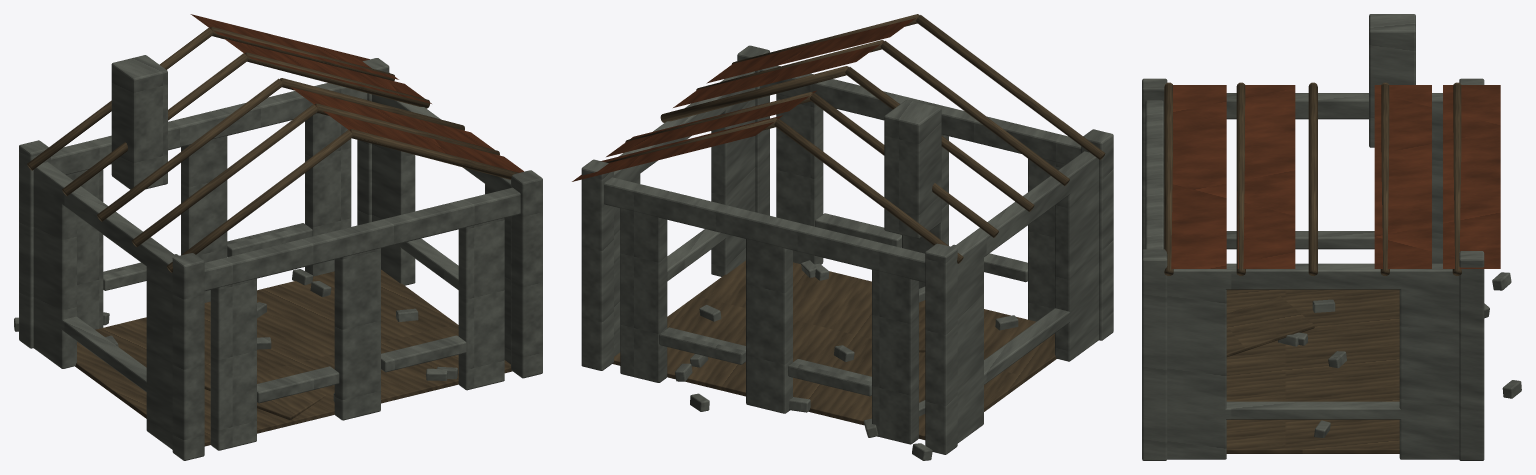
File: house_ruin.glb
The picture shows the model from 3 angles, left to right: view 1: azimuth 30°, elevation 25°; view 2: azimuth 150°, elevation 25°; view 3: azimuth 270°, elevation 25°; orthographic projection. The views are drawn at different scales.
Visible parts, largest first — view 1: Interior_floor, Facade_lintel, Facade_pier, Facade_pier.001, Facade_pier.002, Side_wall.001, Chimney, Corner_masonry, Corner_masonry.002, Facade_lintel.001, Facade_pier.005, Side_wall (+29 smaller); view 2: Interior_floor, Facade_lintel.001, Facade_pier.005, Facade_pier.003, Facade_pier.004, Side_wall, Chimney, Corner_masonry.001, Corner_masonry.003, Facade_lintel, Facade_pier.002, Side_wall.001 (+28 smaller); view 3: Interior_floor, Side_wall.003, Side_wall.002, Broken_roof_sheet, Broken_roof_sheet.001, Broken_roof_sheet.002, Broken_roof_sheet.003, Side_lintel.001, Corner_masonry.002, Corner_masonry.003, Chimney, Side_sill.001 (+11 smaller).
Part boxes in pixels (x1,y1,x2,y2): Interior_floor: (75,269,512,446); Facade_lintel: (204,187,520,290); Facade_pier: (210,278,256,450); Facade_pier.001: (334,248,380,420); Facade_pier.002: (458,218,504,390); Side_wall.001: (33,177,76,368); Chimney: (111,55,167,189); Corner_masonry: (172,253,204,460); Corner_masonry.002: (511,170,542,378); Facade_lintel.001: (51,83,367,174); Facade_pier.005: (305,113,351,276); Side_wall: (146,260,172,449); Interior_floor: (612,260,1056,439); Facade_lintel.001: (604,177,925,282); Facade_pier.005: (620,208,667,382); Facade_pier.003: (872,269,918,444); Facade_pier.004: (746,239,792,413); Side_wall: (1055,166,1098,361); Chimney: (884,99,941,238); Corner_masonry.001: (925,243,957,454); Corner_masonry.003: (581,159,613,370); Facade_lintel: (760,65,1081,164); Facade_pier.002: (776,94,823,264); Side_wall.001: (957,253,983,443); Interior_floor: (1226,289,1399,453); Side_wall.003: (1399,283,1459,459); Side_wall.002: (1167,283,1226,459); Broken_roof_sheet: (1171,85,1226,268); Broken_roof_sheet.001: (1237,85,1295,268); Broken_roof_sheet.002: (1374,85,1431,268); Broken_roof_sheet.003: (1443,85,1500,268); Side_lintel.001: (1167,263,1459,289); Corner_masonry.002: (1142,249,1167,460); Corner_masonry.003: (1459,251,1484,460); Chimney: (1369,14,1415,147); Side_sill.001: (1224,401,1401,419).
Bounding box in the file's own units: 6.05 × 4.57 × 5.27.
Materials: 3 (3 with a texture image).
